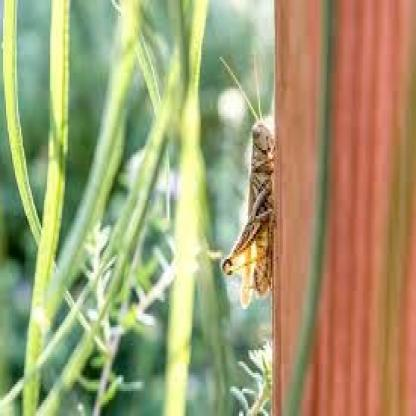grasshopper: (213, 51, 280, 316)
